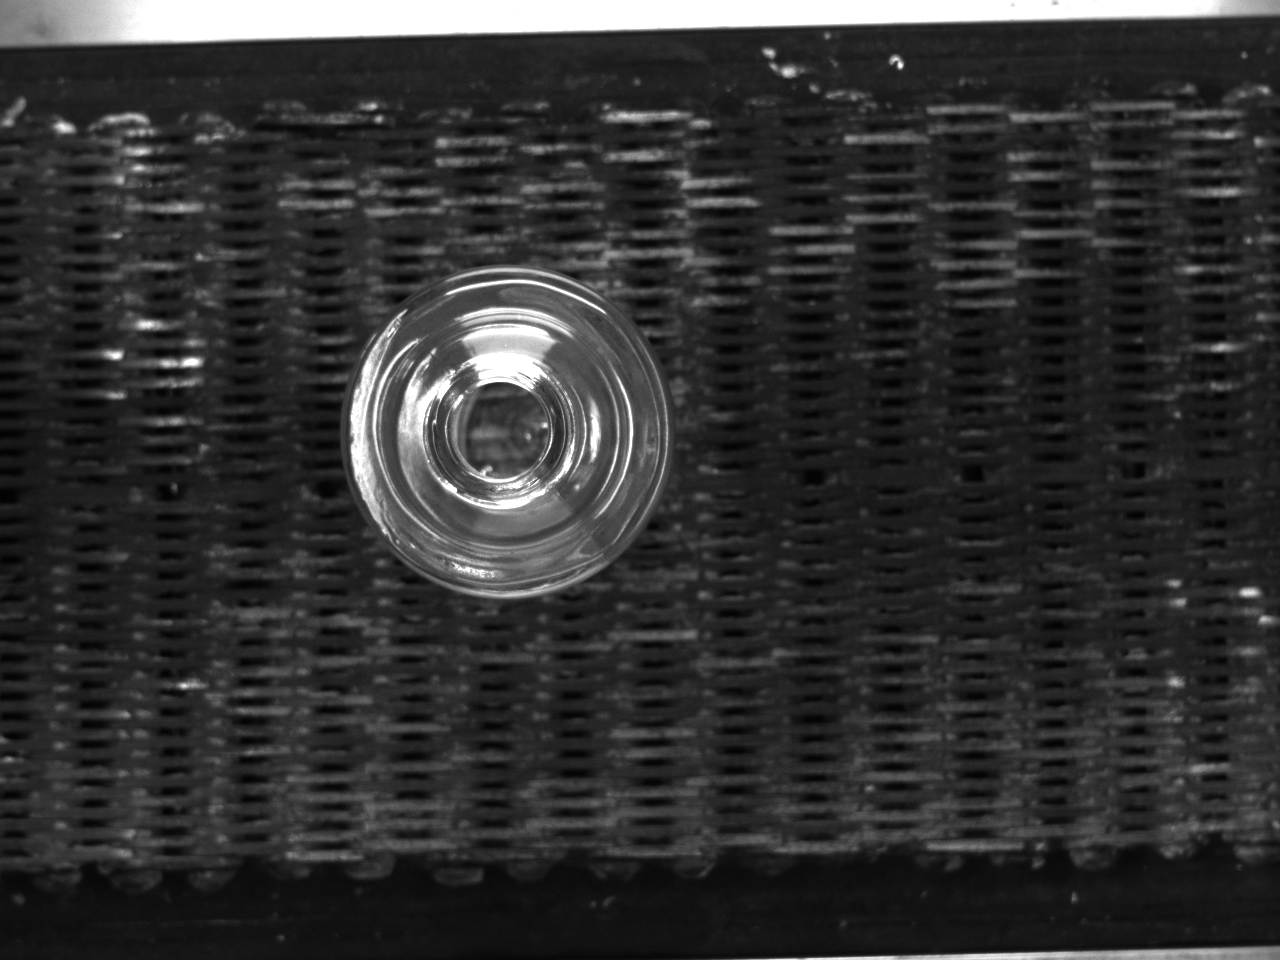bottleneck: (422, 354, 582, 509)
